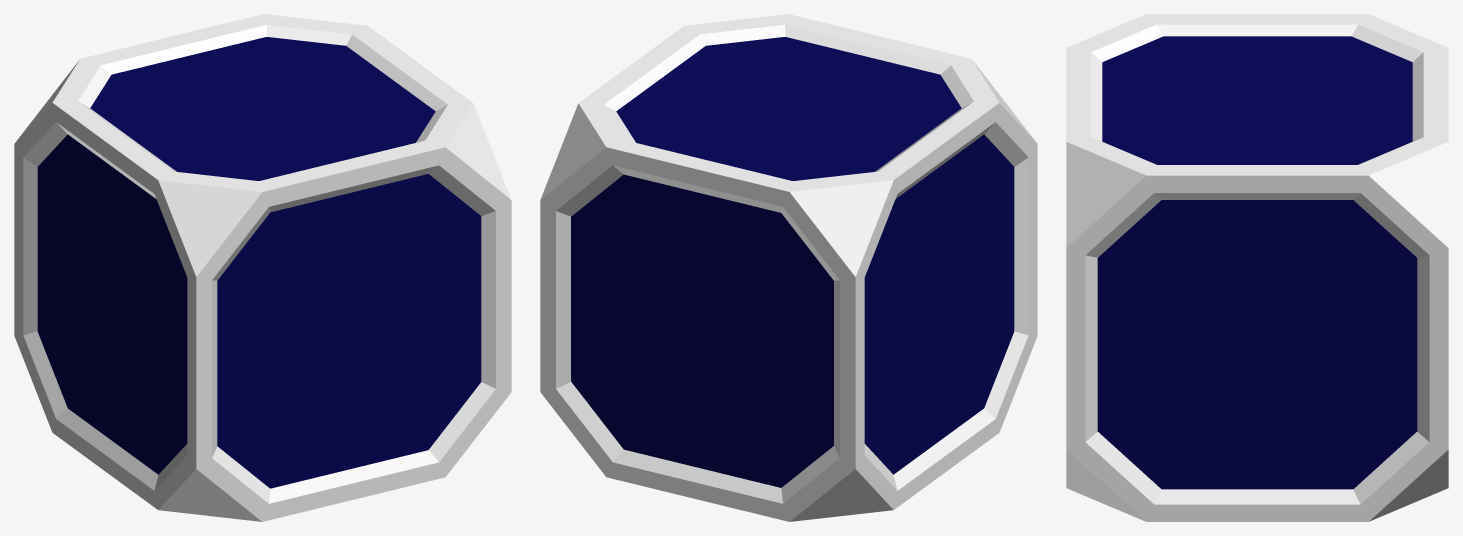
File: SurfaceNodeNoBattery.fbx
The picture shows the model from 3 angles, left to right: view 1: azimuth 30°, elevation 25°; view 2: azimuth 150°, elevation 25°; view 3: azimuth 270°, elevation 25°; orthographic projection. The views are drawn at different scales.
Parts seen in each view (by area): view 1: Cube; view 2: Cube; view 3: Cube.
Boxes of the visible parts, box(x1,y1,x2,y2) form: Cube: box(14, 14, 511, 521); Cube: box(540, 14, 1037, 521); Cube: box(1066, 14, 1448, 521).
Bounding box in the file's own units: 200 × 200 × 200.
